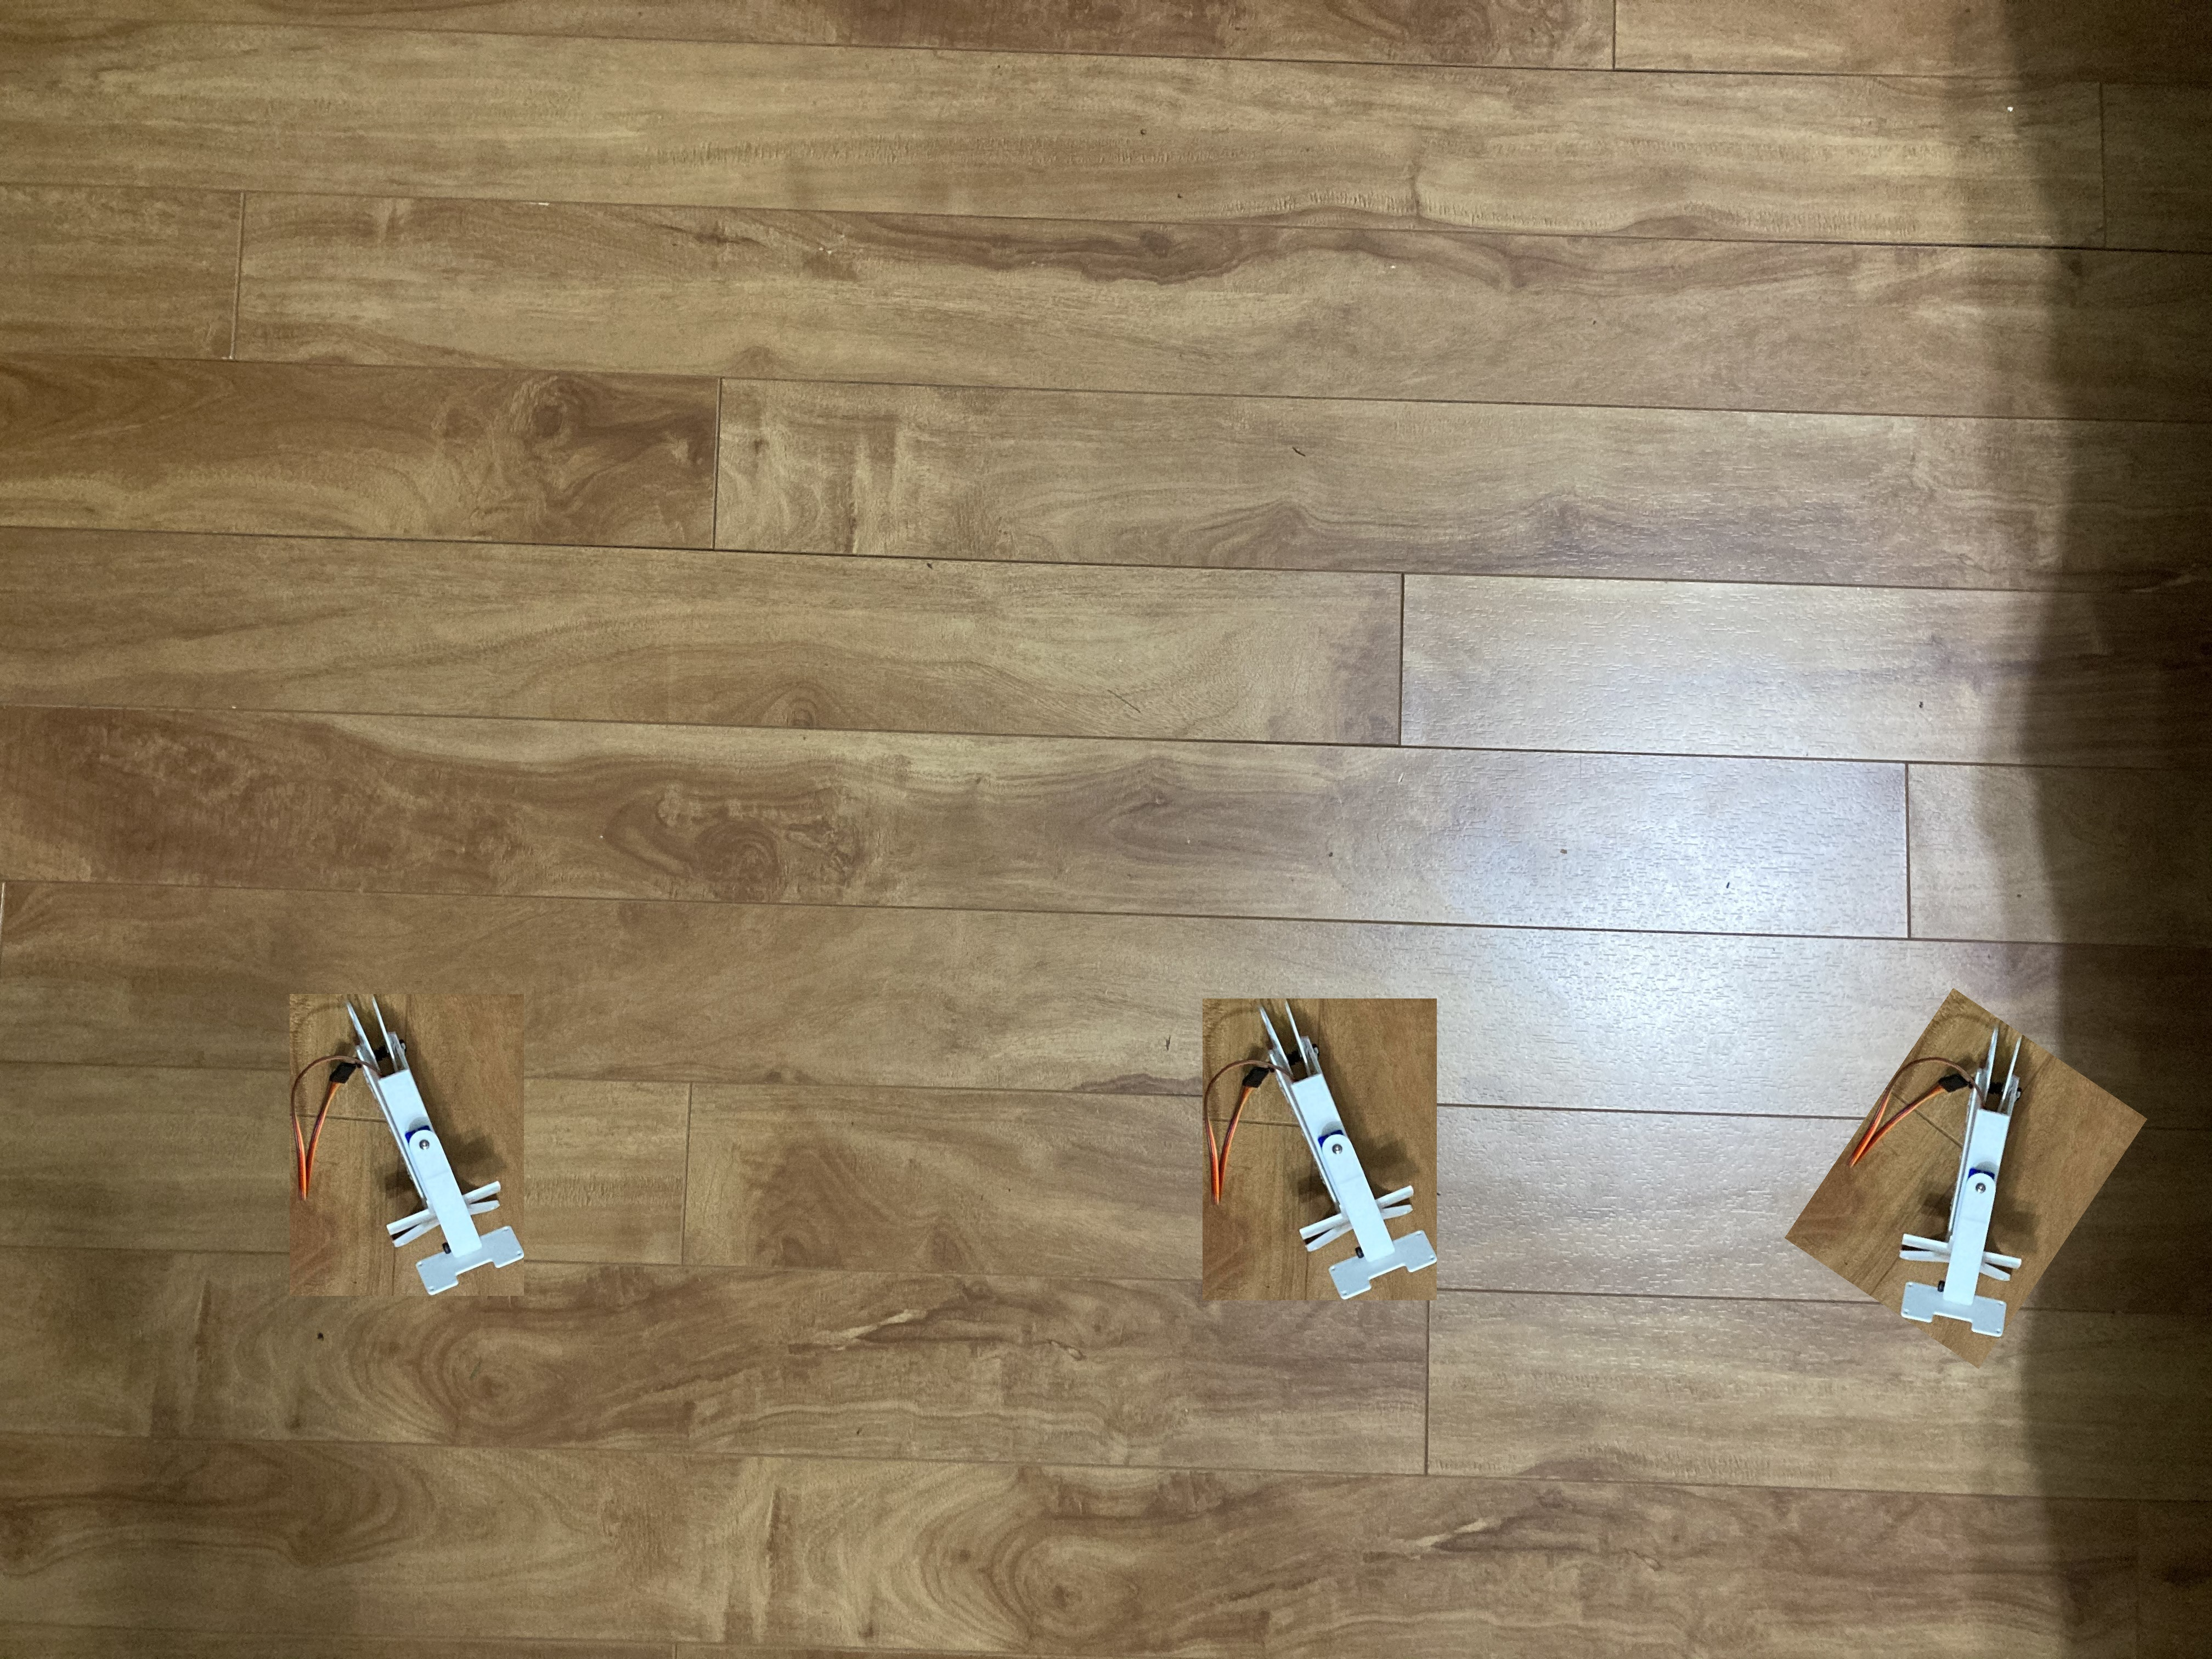robot: (331, 981, 538, 1307), (1245, 1007, 1446, 1295), (1907, 1018, 2041, 1361)
